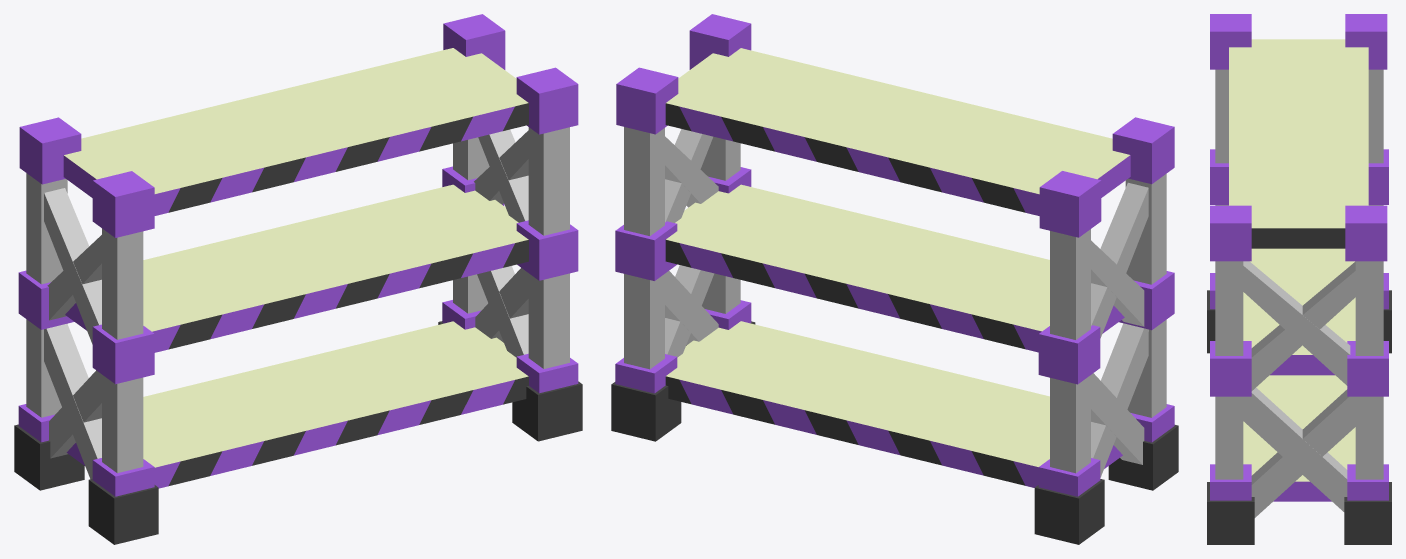
The model's file is Purple_Shelf.fbx.
The picture shows the model from 3 angles, left to right: view 1: azimuth 30°, elevation 25°; view 2: azimuth 150°, elevation 25°; view 3: azimuth 270°, elevation 25°; orthographic projection. The views are drawn at different scales.
Visible parts, largest first — view 1: Purple_Shelf; view 2: Purple_Shelf; view 3: Purple_Shelf.
Part boxes in pixels (<box>): Purple_Shelf: <box>14,14,582,544</box>; Purple_Shelf: <box>611,14,1178,544</box>; Purple_Shelf: <box>1207,14,1391,544</box>.
Bounding box in the file's own units: 179 × 127 × 66.16.
